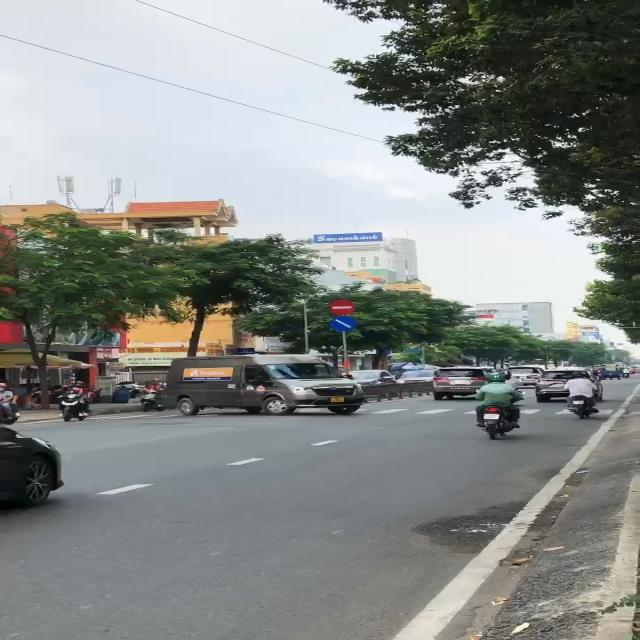Bien bao cam di nguoc chieu: (324, 298, 360, 316)
Bien bao huong phai di vong chuong ngai vat: (326, 314, 364, 334)
